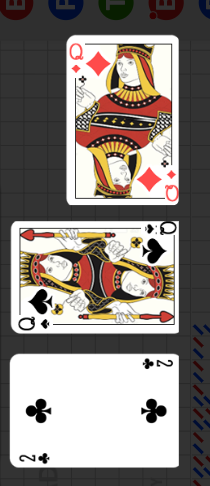2C: (140, 357, 175, 371)
9D: (68, 41, 84, 75), (165, 168, 179, 203)
